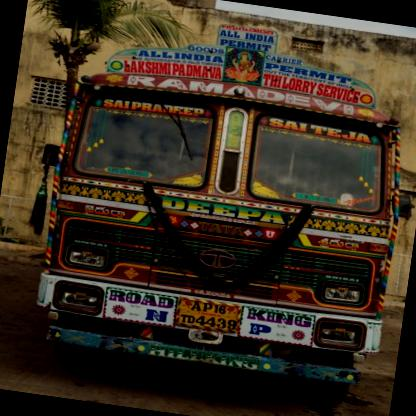truck: (19, 0, 415, 411)
